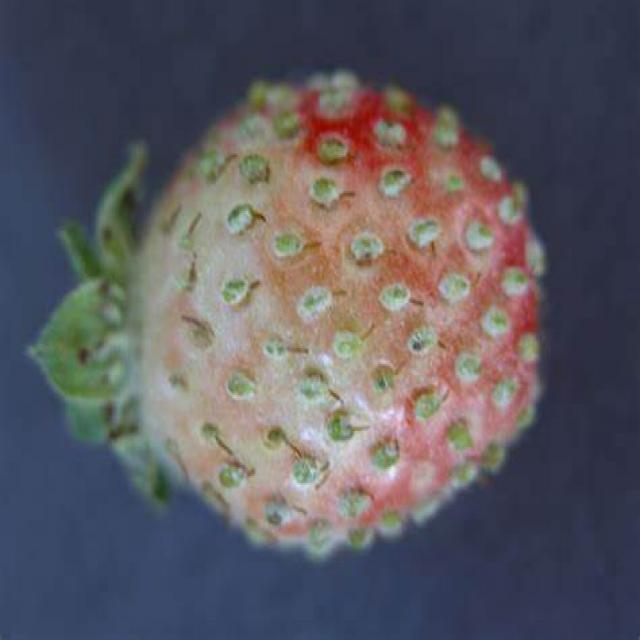Fruta sana: (82, 52, 550, 561)
